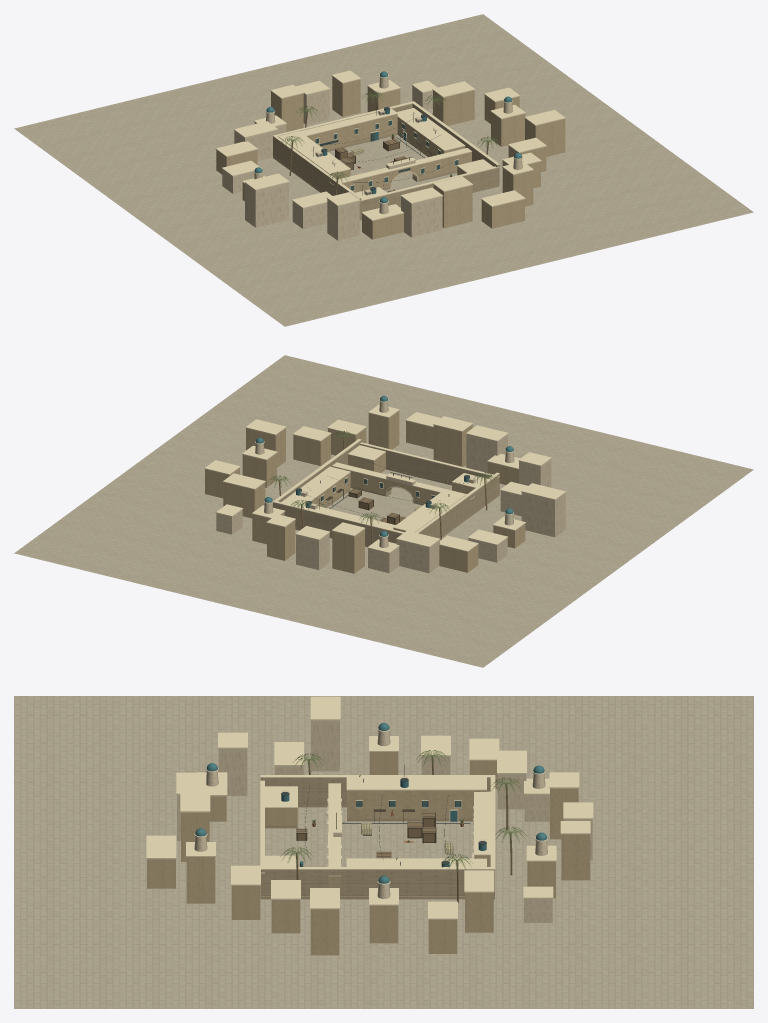
File: world.glb
3 renders of one model, top to bottom at view 1: azimuth 30°, elevation 25°; view 2: azimuth 150°, elevation 25°; view 3: azimuth 270°, elevation 25°, orthographic. The views are drawn at different scales.
Visible parts, largest first — view 1: Counterline procedural world; view 2: Counterline procedural world; view 3: Counterline procedural world.
Boxes of the visible parts, left/top/right/bottom form: Counterline procedural world: left=14, top=14, right=753, bottom=326; Counterline procedural world: left=14, top=355, right=753, bottom=667; Counterline procedural world: left=14, top=696, right=753, bottom=1008.
Bounding box in the file's own units: 180 × 18.34 × 180.
31 materials, 19 textured.
